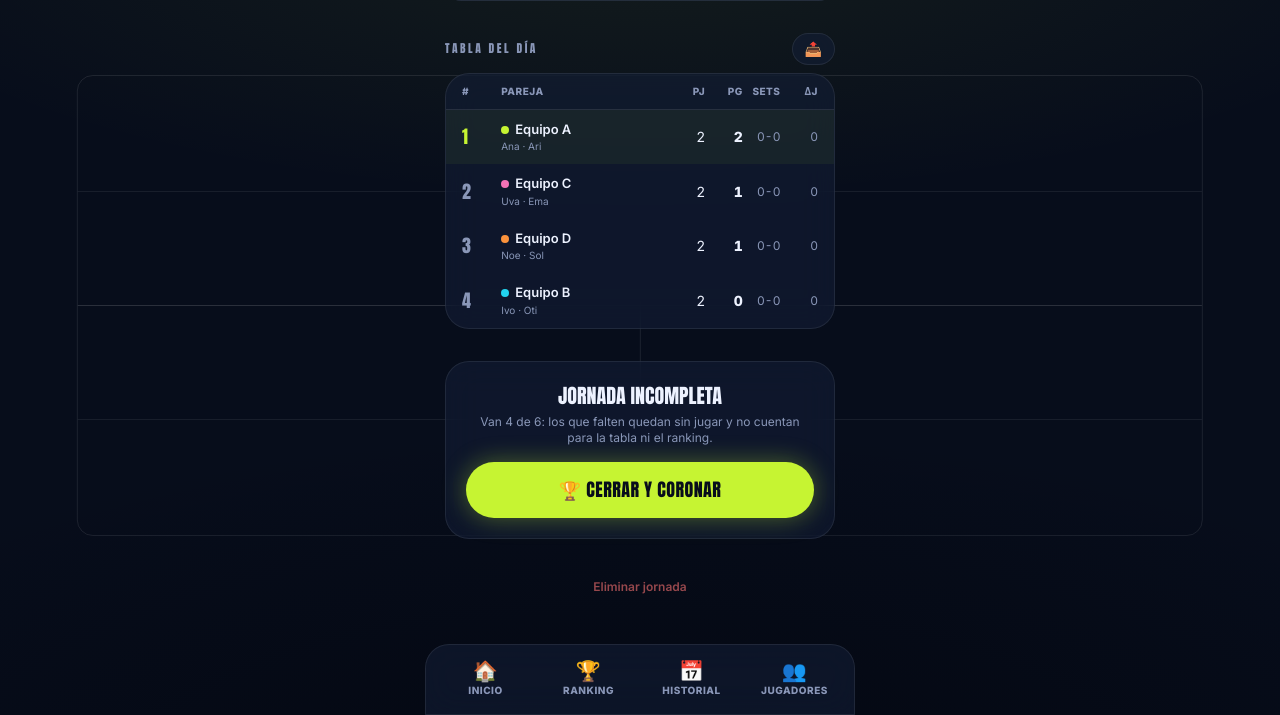
Test: Session: cierre de jornada › permite cerrar con menos de 6 partidos, pidiendo confirmación
The width and height of the screenshot is (1280, 715).
(page scrolled)
Expected: the text "Jornada incompleta" is shown, x1=558 y1=380 x2=722 y2=411
// primero pide confirmación
Click the button "🏆 Cerrar y coronar": [640, 490] box x1=466 y1=462 x2=814 y2=518
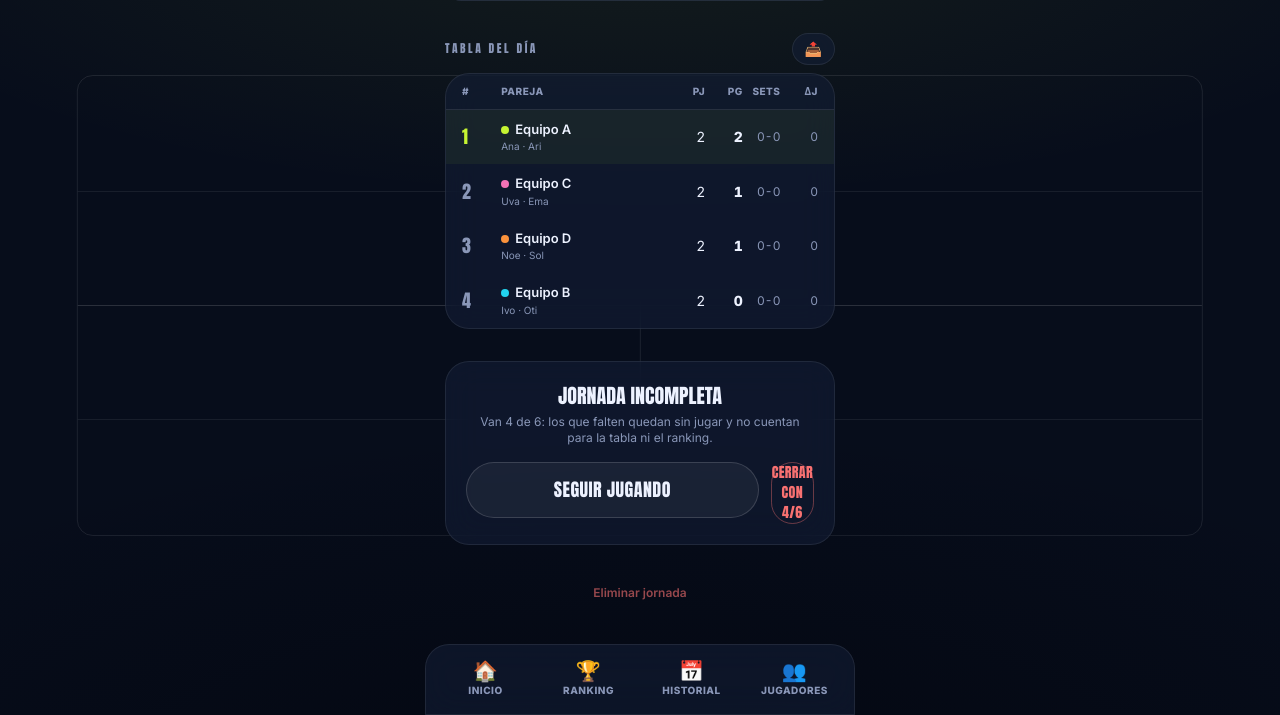
Expected: the button "Cerrar con 4/6" is shown
Expected: the button "Seguir jugando" is shown, x1=466 y1=462 x2=759 y2=518
Click the button "Cerrar con 4/6": [792, 493] box x1=771 y1=462 x2=814 y2=524
(page scrolled)
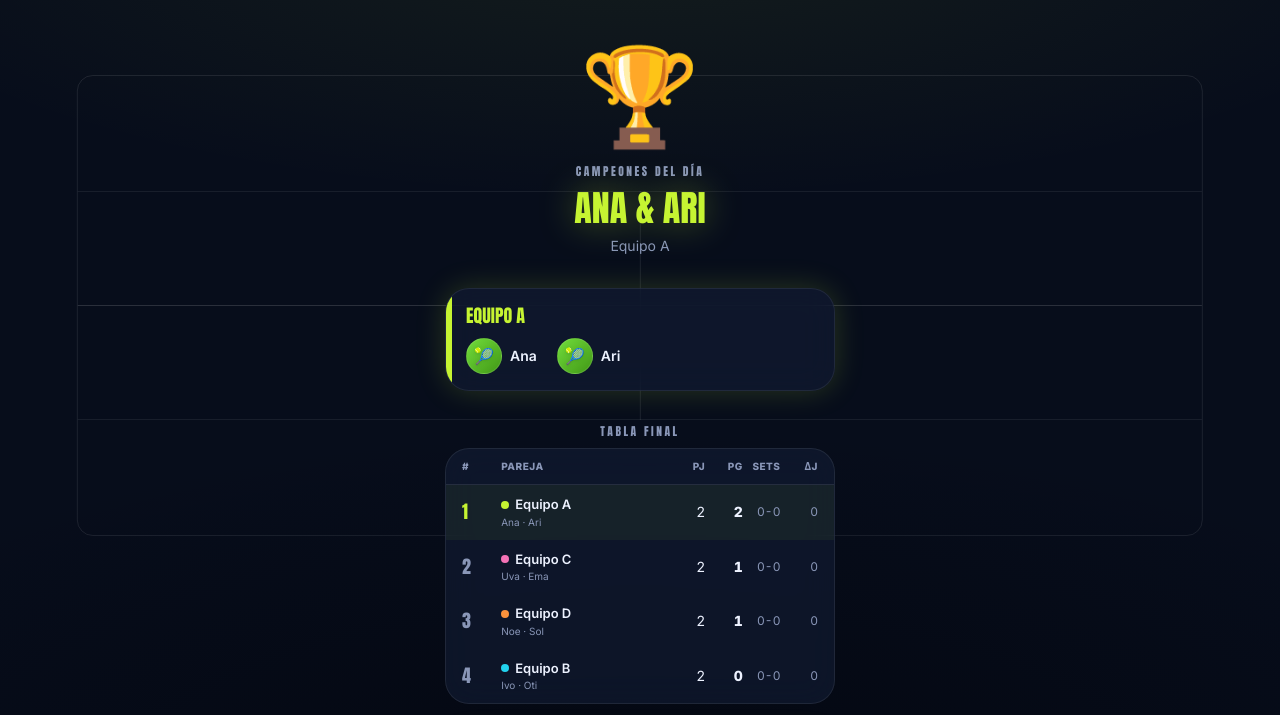
Expected: the text "Campeones del día" is shown, x1=576 y1=162 x2=704 y2=180
Expected: the heading "Ana & Ari" is shown, x1=574 y1=181 x2=706 y2=235
